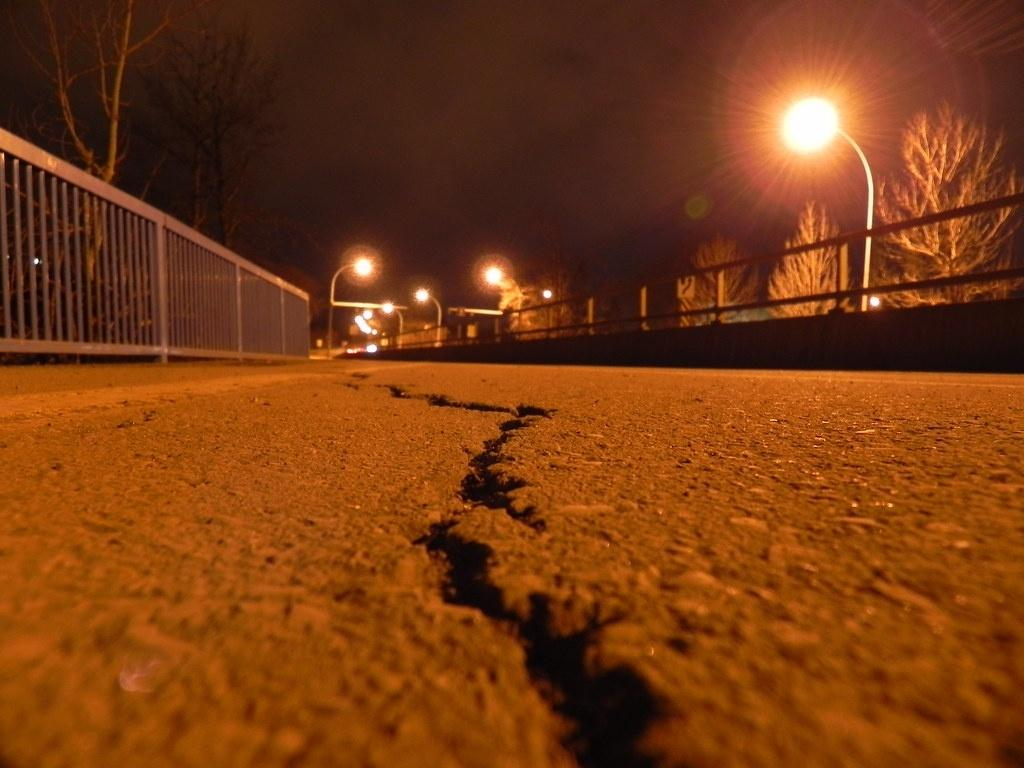Crack: (330, 368, 706, 768)
